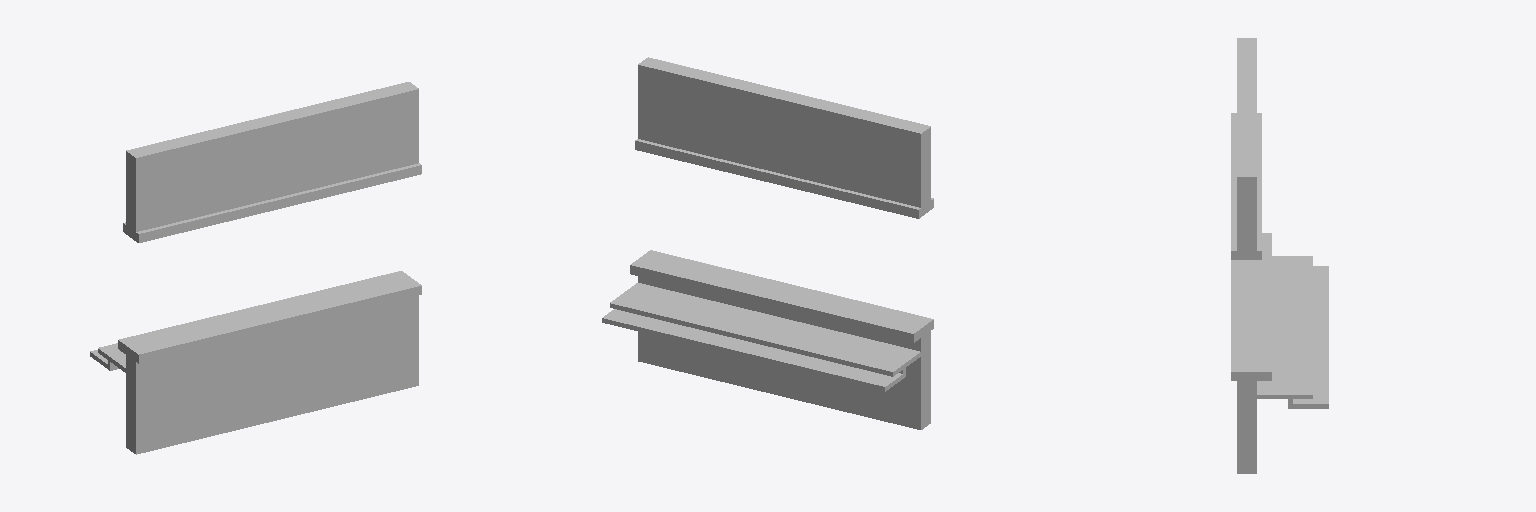
The model's file is tellerDesk.obj.
3 renders of one model, left to right at view 1: azimuth 30°, elevation 25°; view 2: azimuth 150°, elevation 25°; view 3: azimuth 270°, elevation 25°, orthographic.
Visible parts, largest first — view 1: tellerDesk; view 2: tellerDesk; view 3: tellerDesk.
Boxes of the visible parts, x1,y1,x2,y2 form: tellerDesk: [90, 82, 421, 454]; tellerDesk: [602, 57, 933, 429]; tellerDesk: [1231, 38, 1328, 473].
Bounding box in the file's own units: 64 × 64 × 19.